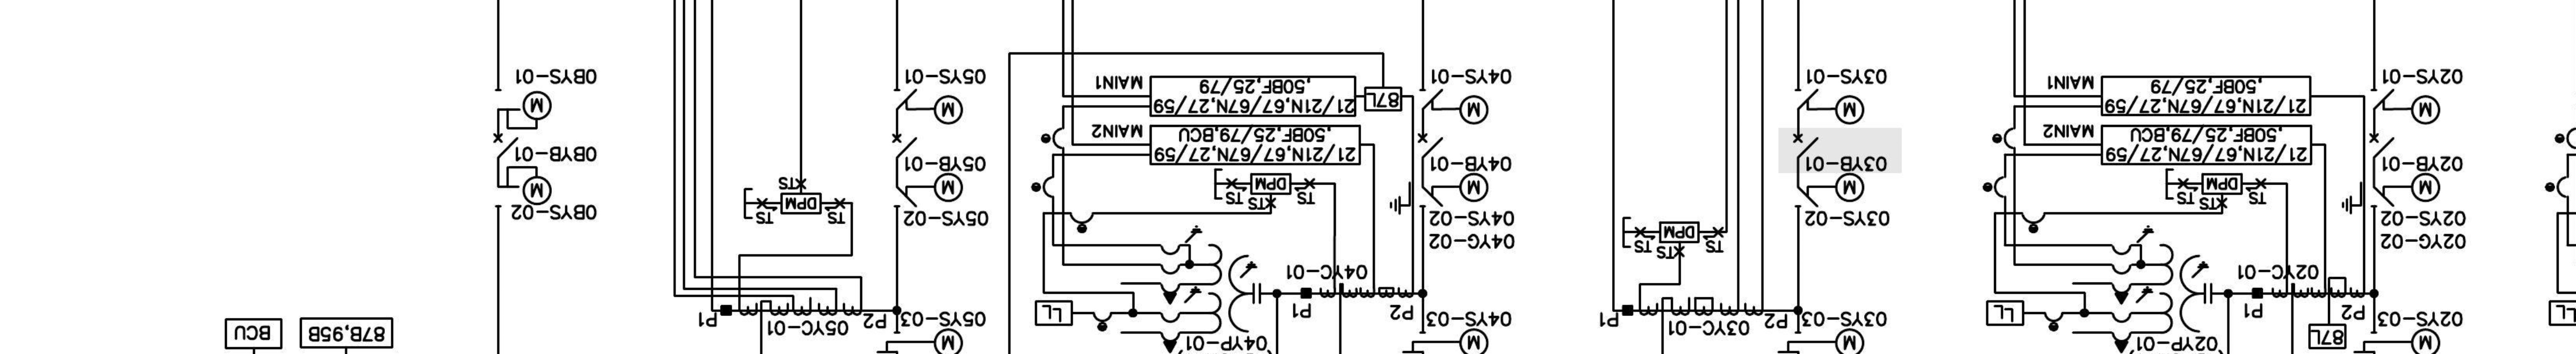115_1way_ds_w_motor: (1764, 172, 1865, 215), (1418, 88, 1490, 125), (892, 88, 964, 125), (2371, 88, 2441, 125), (1794, 88, 1865, 125), (894, 172, 964, 208), (495, 166, 552, 208), (495, 88, 552, 129)
115_3ways_ds_w_motor: (2341, 172, 2441, 215), (1390, 172, 1490, 215)
115_breaker: (493, 133, 519, 159), (2369, 133, 2395, 159), (1792, 133, 1819, 159), (1418, 133, 1444, 159), (892, 133, 918, 159)
115_cvt_1p: (2109, 225, 2213, 354)
BCU: (223, 318, 283, 351)
DPM: (2201, 172, 2244, 195), (1658, 221, 1700, 244), (1250, 172, 1291, 195), (780, 192, 821, 215)
LL: (1986, 300, 2026, 326), (1035, 300, 1073, 326)
